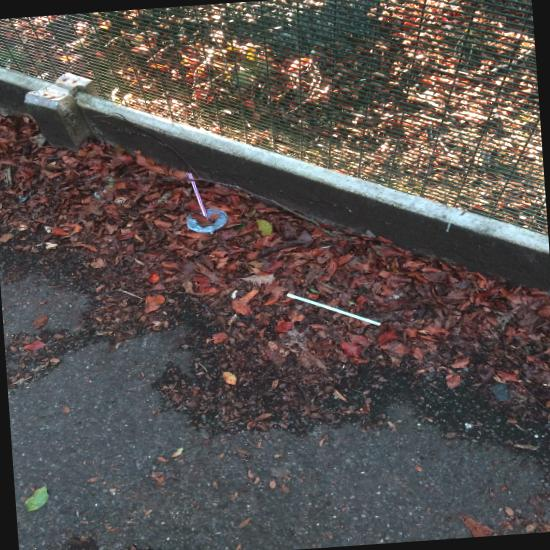Plastic lid: (185, 209, 228, 232)
Plastic straw: (287, 293, 381, 325), (188, 173, 214, 233)
